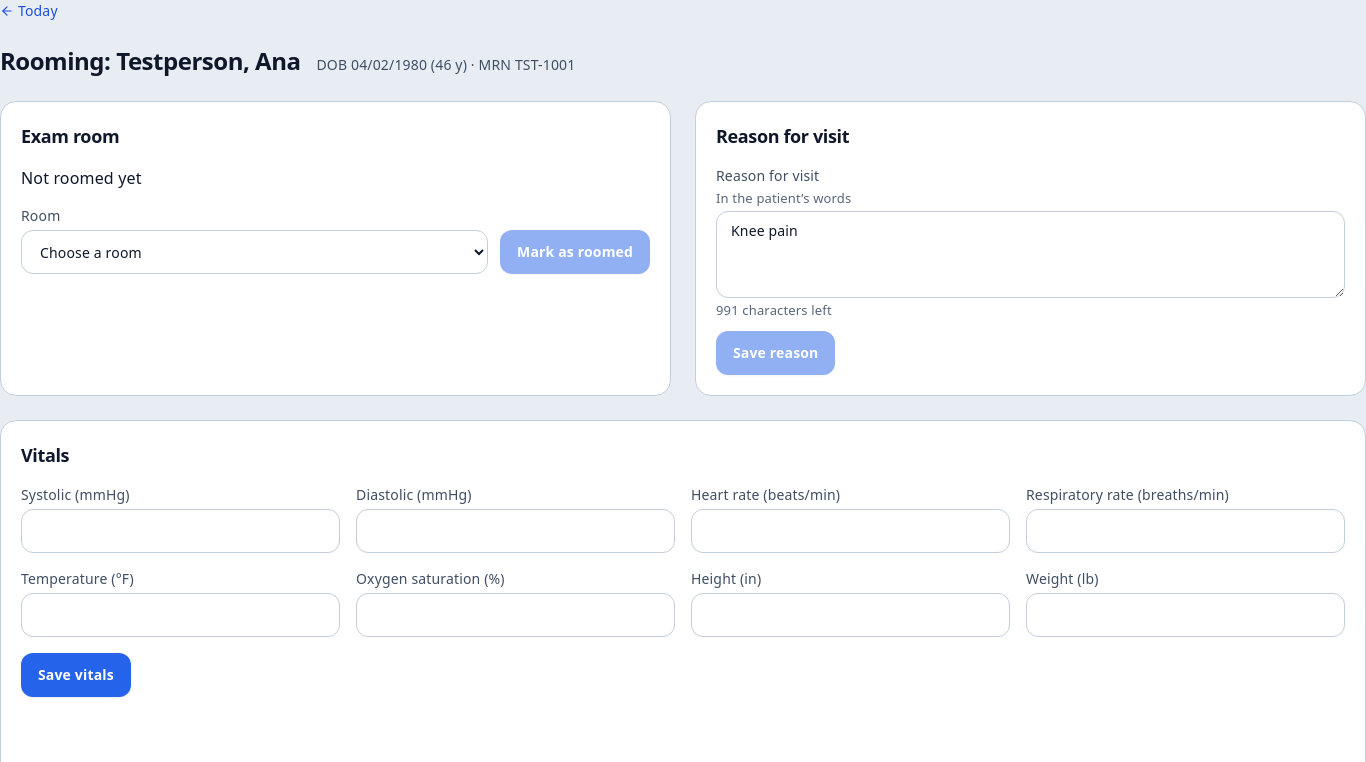
Test case: RoomingPage › rooms the patient, then shows the room
Select "Exam 2" in the dropdown labelled "Room" at x=255, y=252, box [21,230,488,274]
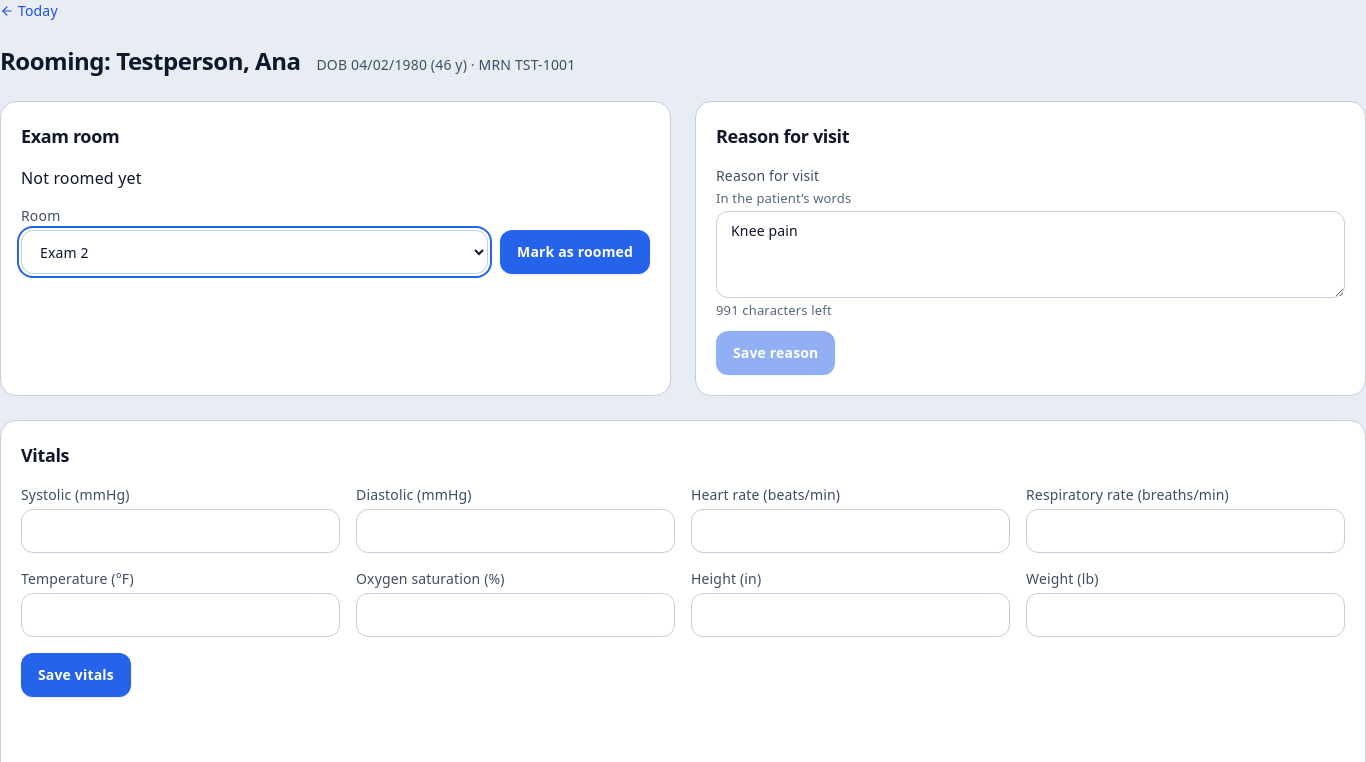
Click the button "Mark as roomed" at x=575, y=252, box [500,230,650,274]
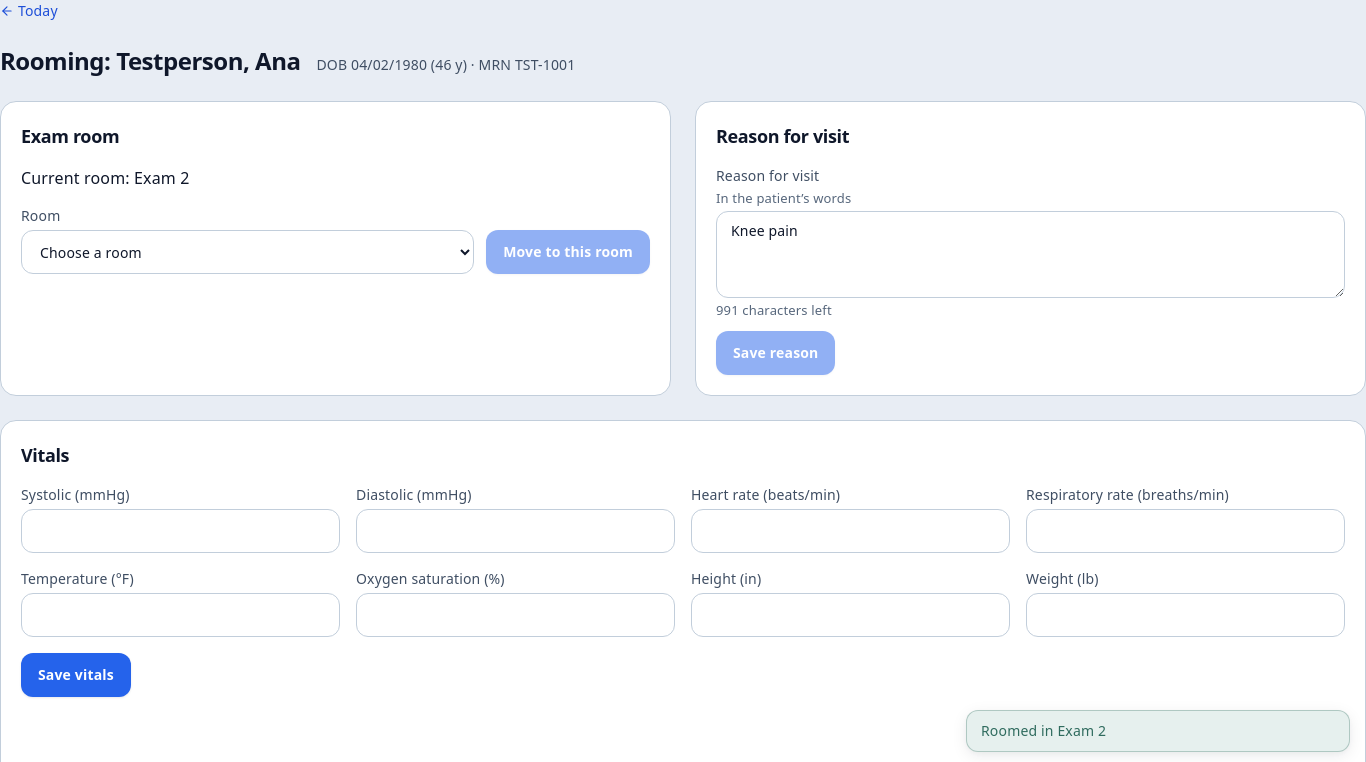
Expected: the text "Current room: Exam 2" is shown, [21,167,190,189]
Expected: the button "Move to this room" is shown, [486,230,650,274]
